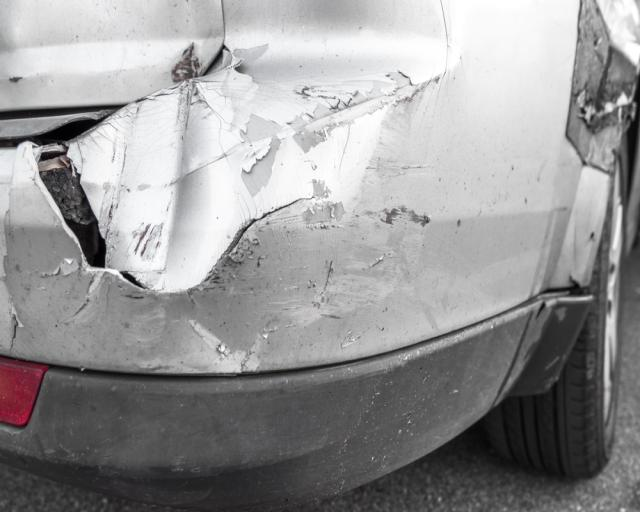crack: (32, 141, 316, 294), (9, 314, 19, 354)
dent: (66, 76, 230, 290)
scratch: (41, 70, 432, 369)
